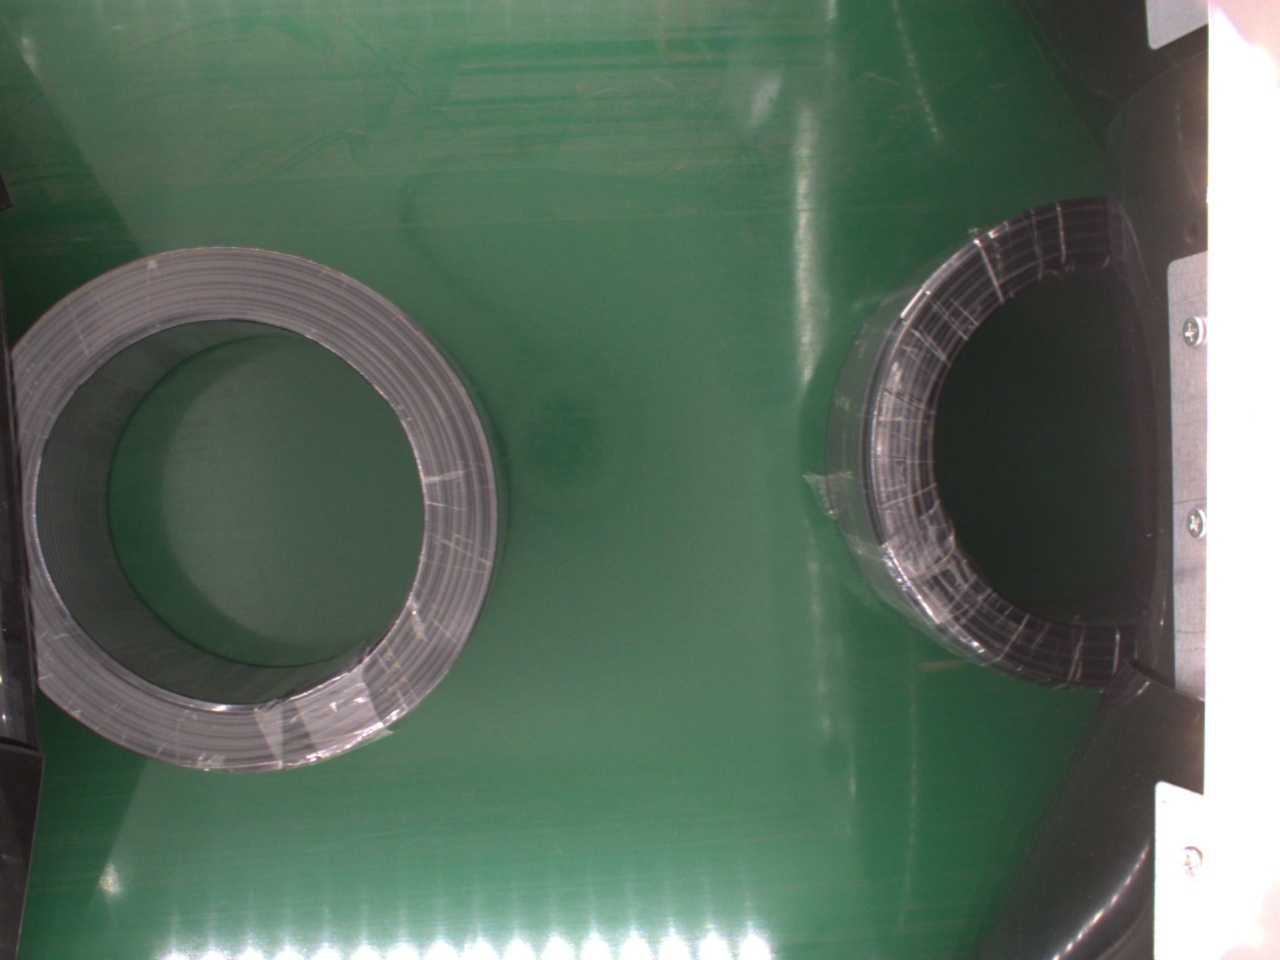black: (25, 245, 501, 773), (825, 197, 1156, 697)
